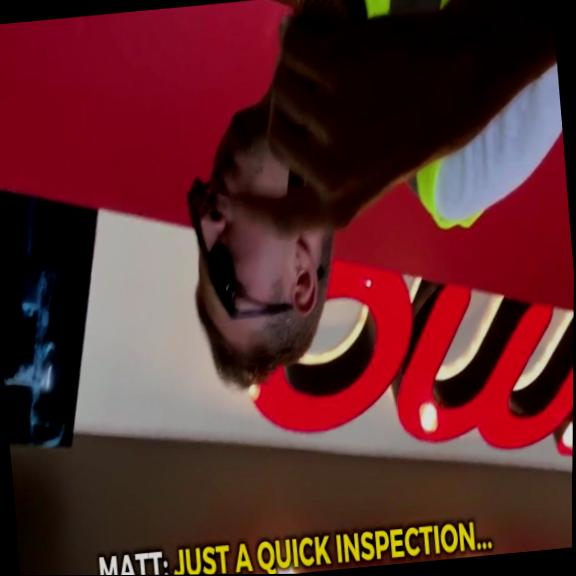safety_vest: (350, 0, 545, 235)
